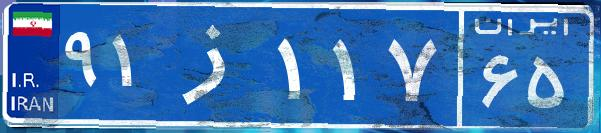1: (273, 28, 330, 110), (330, 28, 385, 110), (110, 28, 158, 105)
5: (525, 38, 570, 115)
6: (475, 38, 525, 113)
7: (385, 28, 445, 110)
9: (57, 26, 110, 107)
ز: (158, 15, 273, 115)
